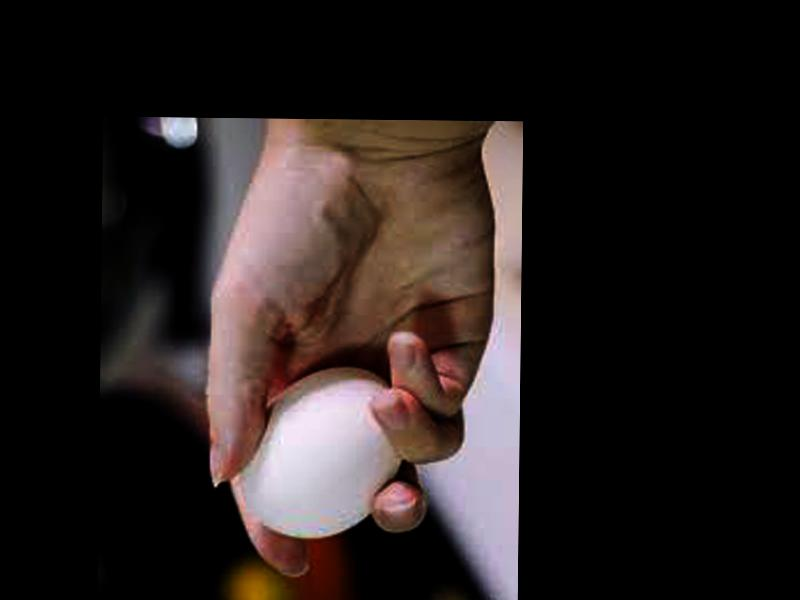Eggs: (241, 367, 401, 541)
